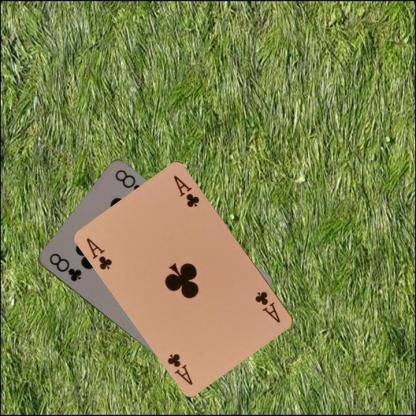8c: (46, 250, 83, 283)
Ac: (84, 235, 114, 272), (252, 288, 282, 324)
